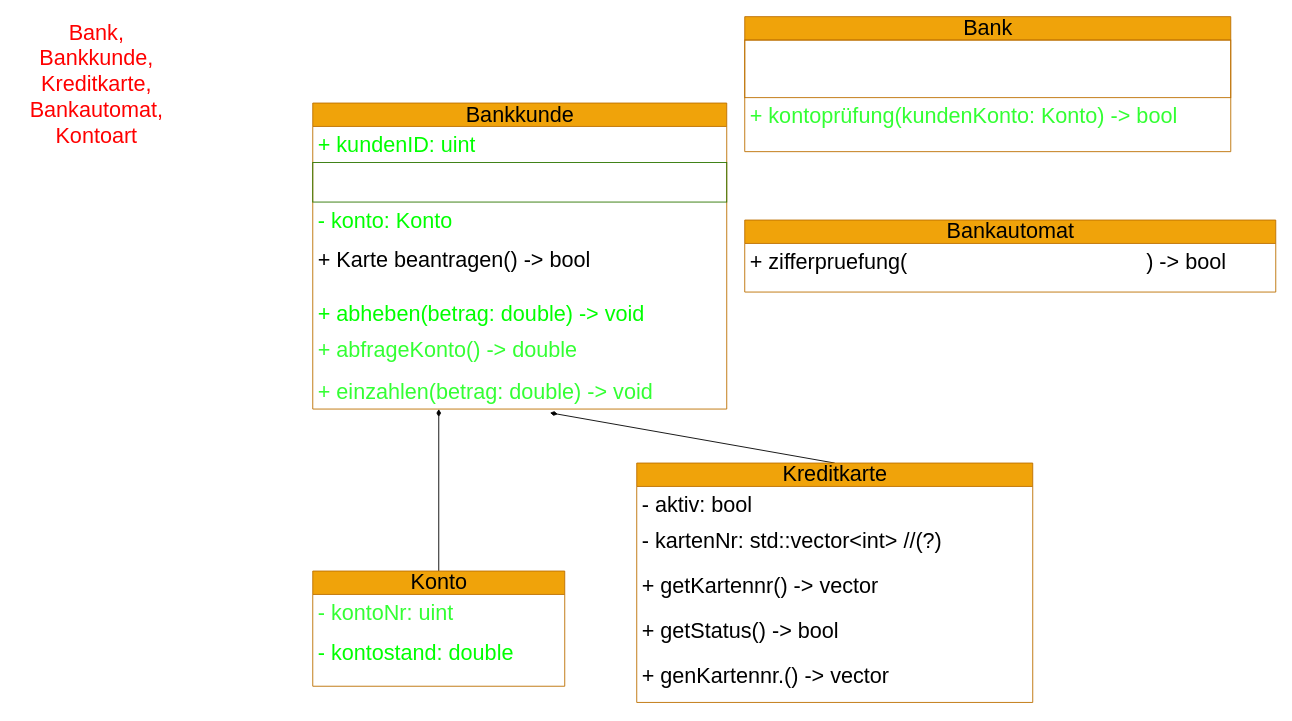
Image size: 1292x721. Some labels were removed from this diagram. Each missing label, with the centre of its shape:
"- kreditkarte: Kreditkarte" belongs at point 519,182.
"- kunden: std::vector<KundenID>" belongs at point 987,68.
